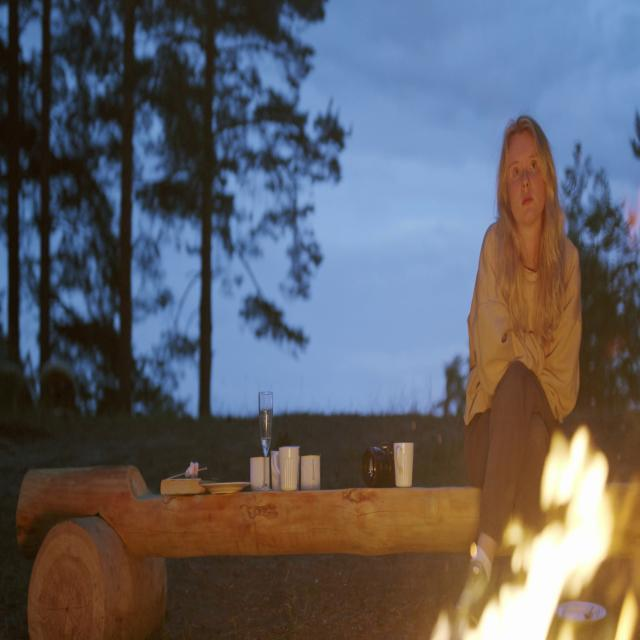Fire: (453, 425, 639, 640)
